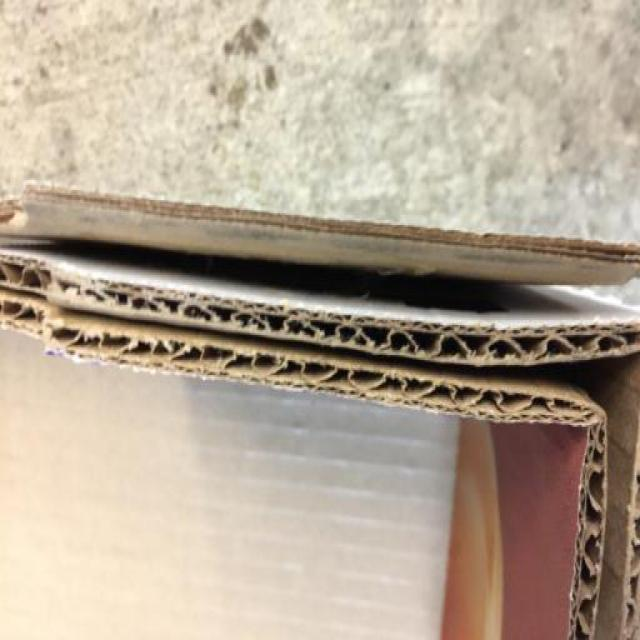cardboard: (5, 129, 640, 640)
